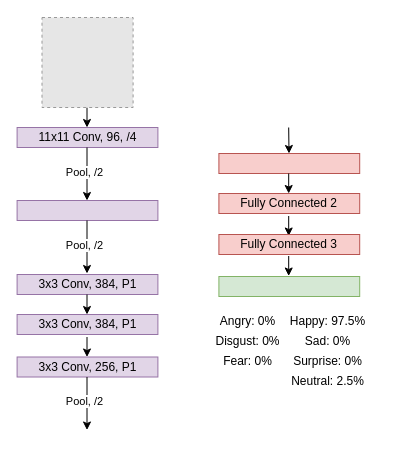
Image size: 395x456. Some labels were removed from this diagram. Grey dashed boxes stand in for pictures. Here are the shapes that lost their labels. From the top down, the centre of each, then its label:
(x=289, y=163): Fully Connected 1
(x=87, y=210): 5x5 Conv, 256, P2
(x=289, y=286): Softmax
